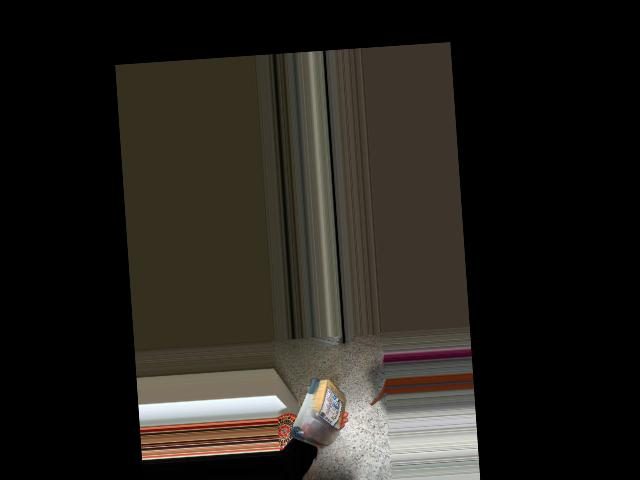cheese: (287, 372, 351, 461)
